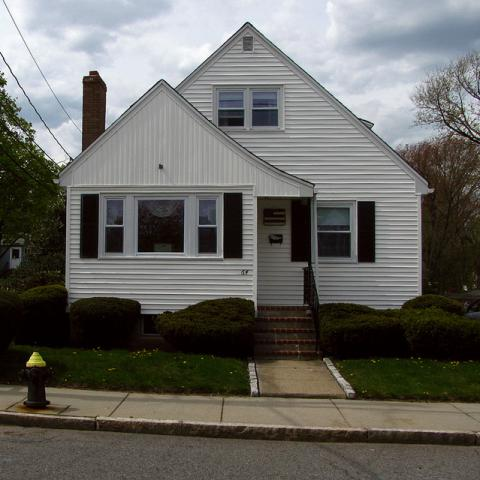car: (438, 282, 480, 312)
